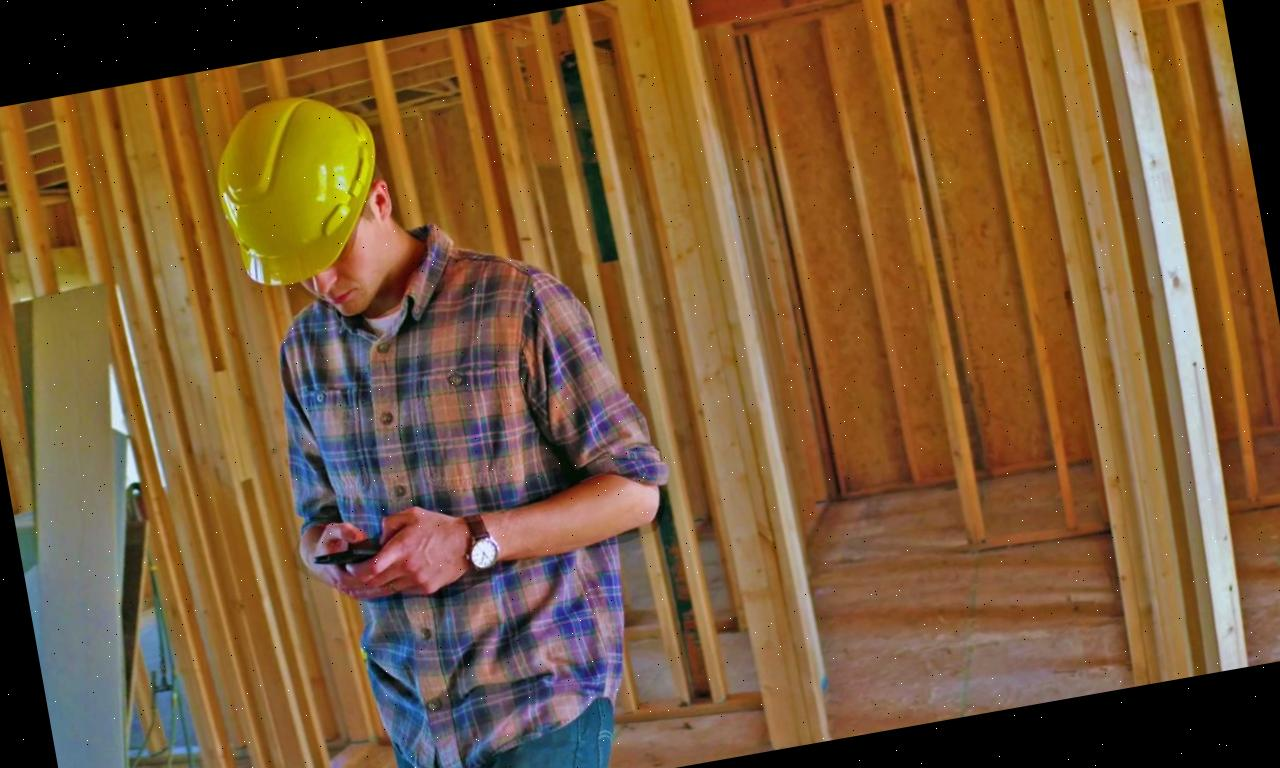helmet: (204, 84, 400, 299)
no_wear: (263, 263, 634, 726)
